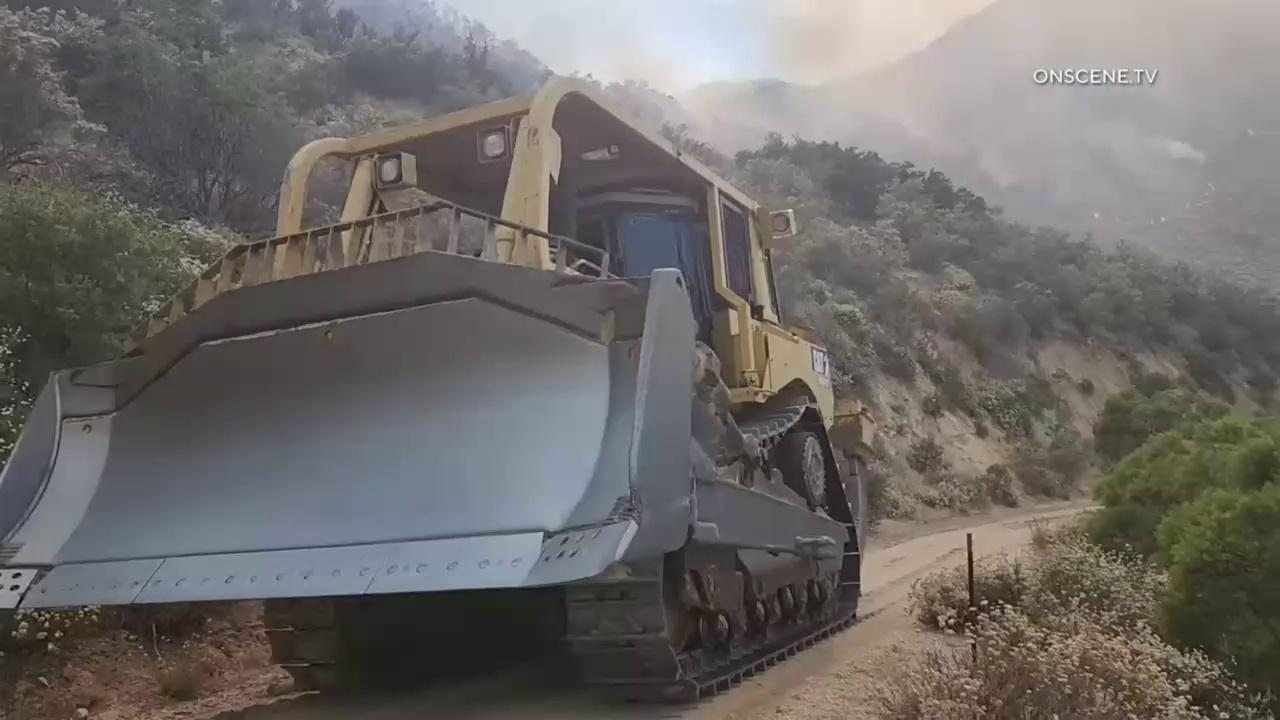fire: (1090, 210, 1103, 221), (1159, 215, 1168, 224)
smoke: (222, 0, 1280, 306)
